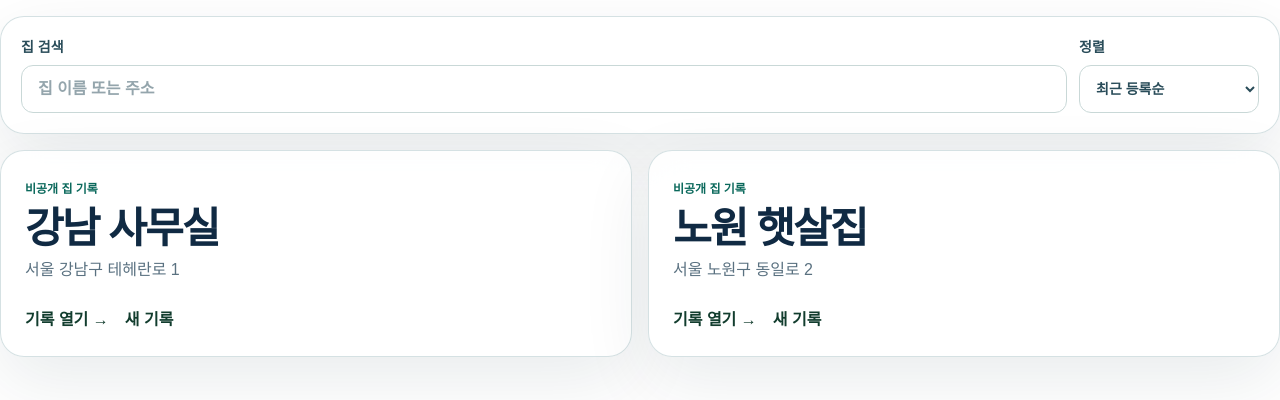
HomeDirectory › TEST-ZSD-WEB-002 shows a distinct empty search result
The image size is (1280, 400).
Type "없는 집" into the search field labelled "집 검색". click: (544, 89)
box: x1=21 y1=65 x2=1067 y2=113
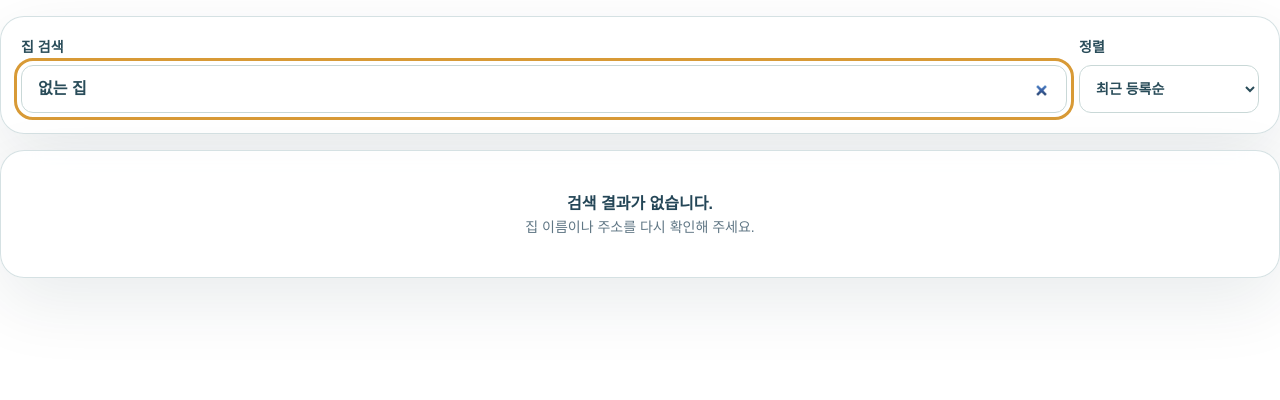
Now the text "검색 결과가 없습니다." is shown, box x1=567 y1=195 x2=713 y2=212
